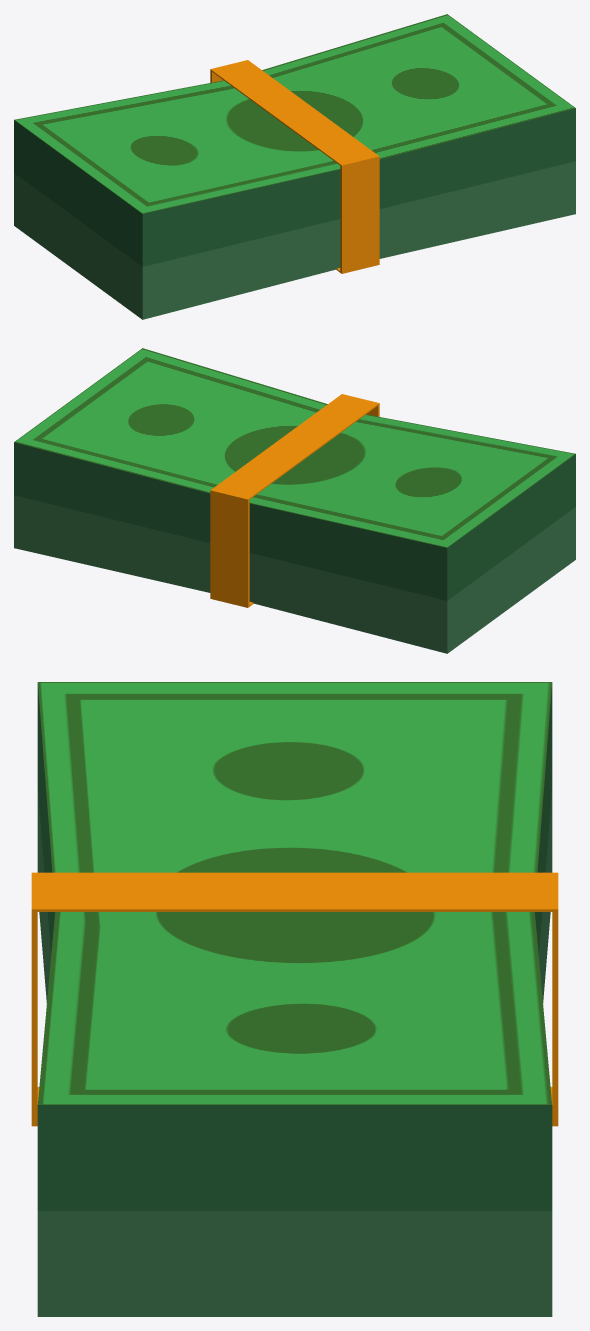
The model's file is Money.fbx.
3 renders of one model, top to bottom at view 1: azimuth 30°, elevation 25°; view 2: azimuth 150°, elevation 25°; view 3: azimuth 270°, elevation 25°, orthographic. The views are drawn at different scales.
Parts seen in each view (by area): view 1: Dollar; view 2: Dollar; view 3: Dollar.
Part boxes in pixels (left/top/right/bottom): Dollar: left=14, top=14, right=575, bottom=319; Dollar: left=14, top=348, right=575, bottom=653; Dollar: left=31, top=682, right=558, bottom=1316.
Size of the model in its own units: 21.12 by 5.05 by 11.12.
